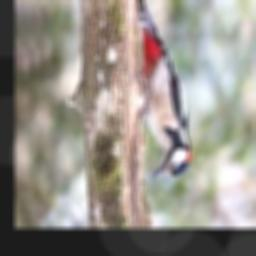Woodpecker: (137, 0, 191, 181)
